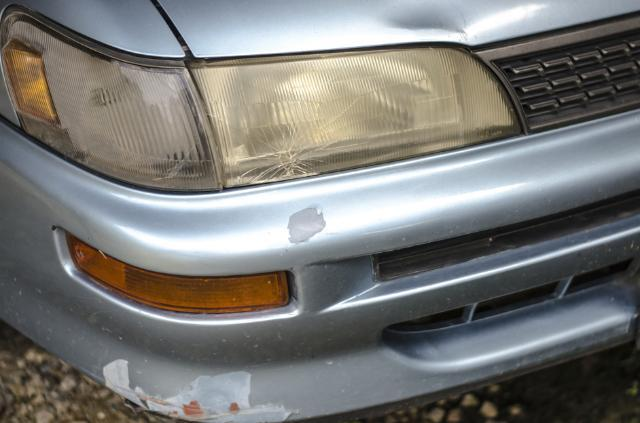Bonnet: (360, 1, 590, 47)
Bumper: (78, 189, 363, 423)
